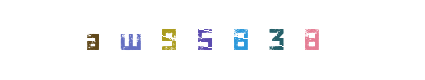3: (237, 0, 317, 80)
5: (172, 0, 252, 80)
8: (201, 0, 281, 80), (252, 0, 332, 80)
9: (133, 0, 213, 80)
A: (53, 0, 133, 80)
W: (122, 0, 202, 80)
